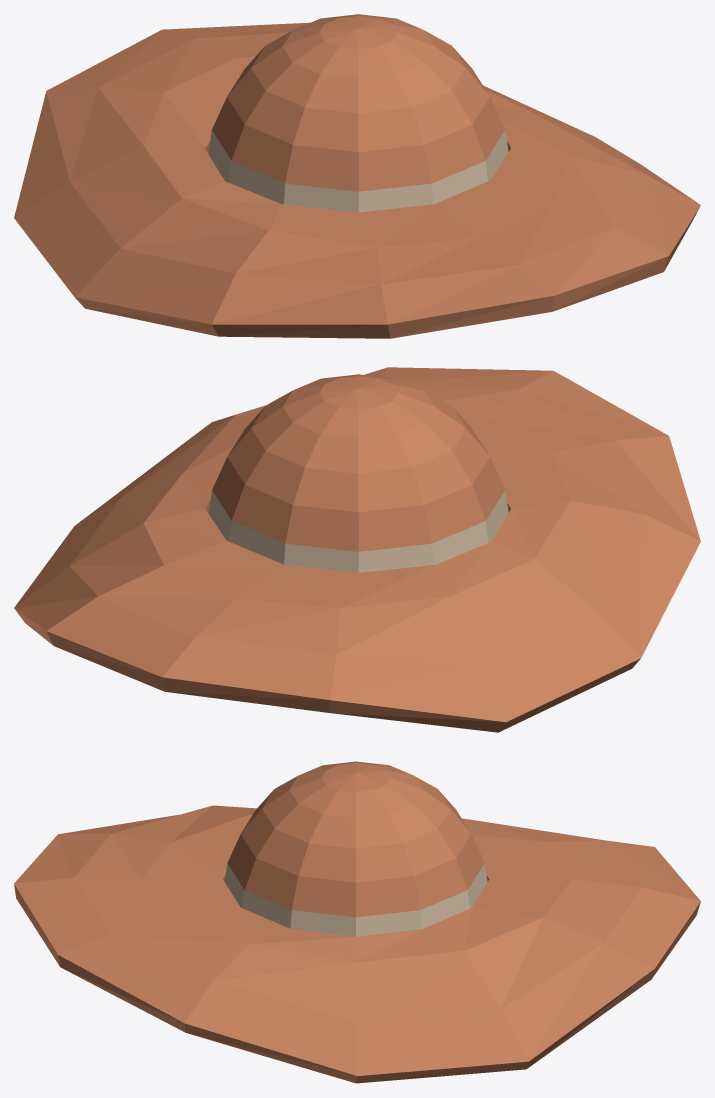
The model's file is Hat_Sun.fbx.
The picture shows the model from 3 angles, top to bottom: view 1: azimuth 30°, elevation 25°; view 2: azimuth 150°, elevation 25°; view 3: azimuth 270°, elevation 25°; orthographic projection. The views are drawn at different scales.
Visible parts, largest first — view 1: Hat_Sun; view 2: Hat_Sun; view 3: Hat_Sun.
Boxes of the visible parts, x1,y1,x2,y2 form: Hat_Sun: [14, 14, 700, 338]; Hat_Sun: [14, 367, 700, 732]; Hat_Sun: [14, 761, 700, 1083].
Size of the model in its own units: 2.85 by 1.06 by 3.41.
